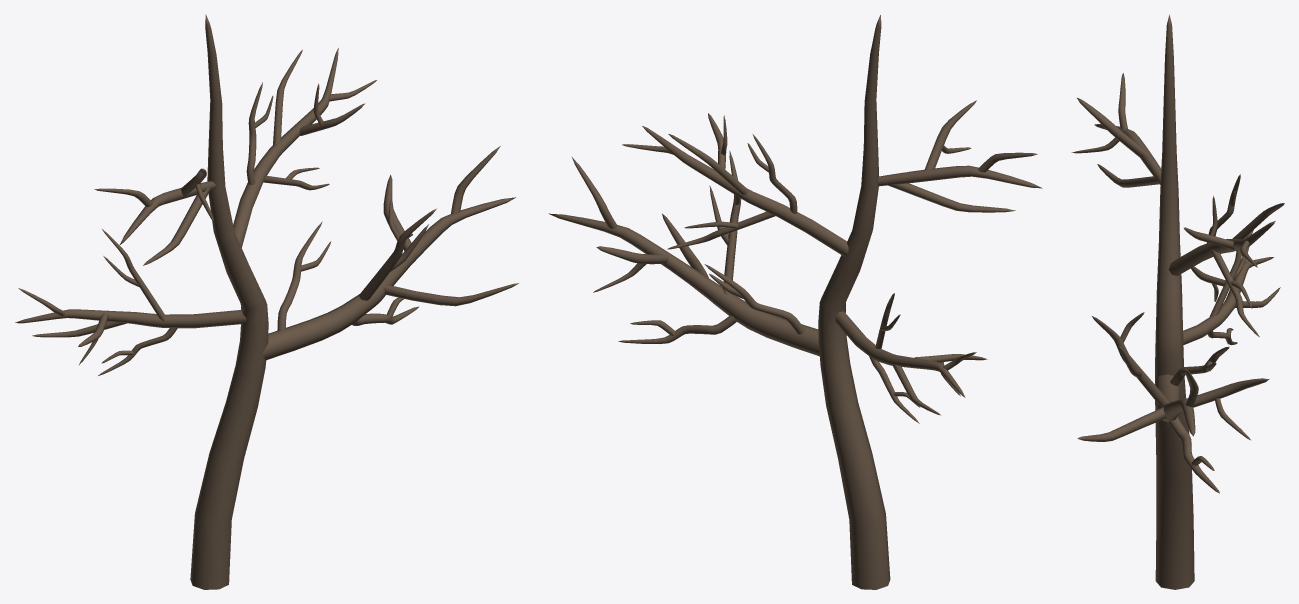
The model's file is deadtree-3.glb.
3 views of the same model, side by side, from view 1: azimuth 30°, elevation 25°; view 2: azimuth 150°, elevation 25°; view 3: azimuth 270°, elevation 25° (orthographic).
Visible parts, largest first — view 1: DeadTree_3; view 2: DeadTree_3; view 3: DeadTree_3.
Boxes of the visible parts, left/top/right/bottom form: DeadTree_3: left=15, top=14, right=518, bottom=589; DeadTree_3: left=548, top=15, right=1042, bottom=589; DeadTree_3: left=1071, top=14, right=1284, bottom=589.
Size of the model in its own units: 4.22 by 4.96 by 1.7.
